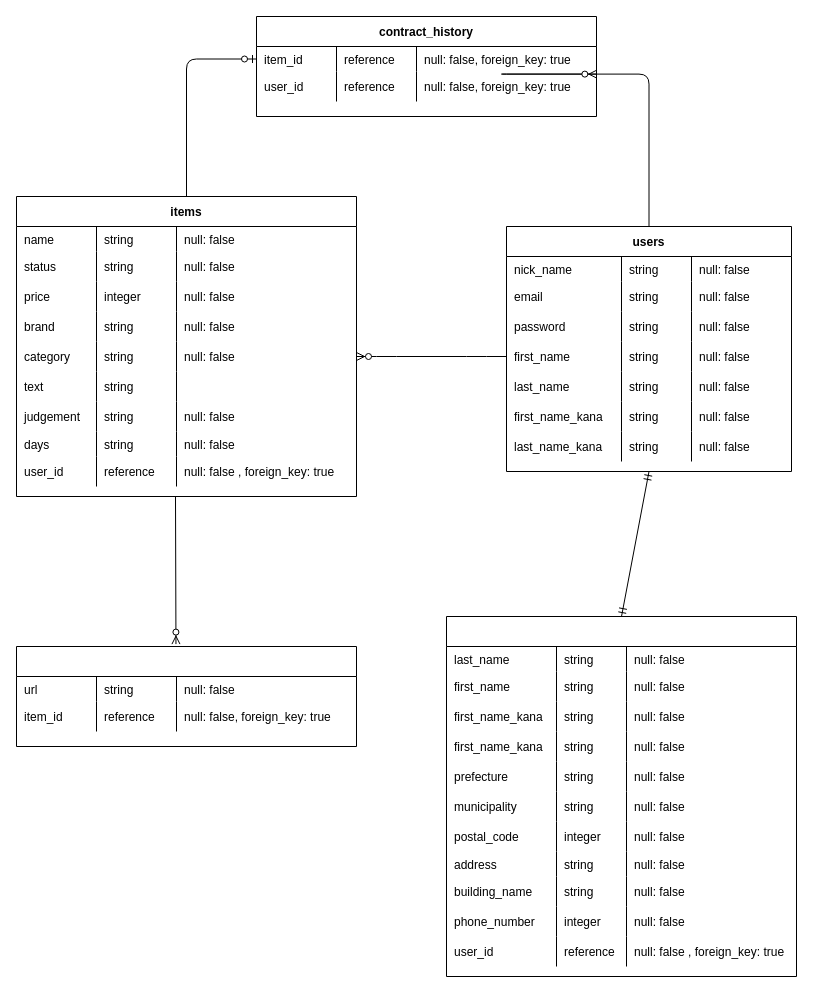
This 813x993 diagram has some shape labels left out. The box of each missing label's shape, as (x1, y1, x2, y2) in pixels:
destinations: (446, 616, 796, 976)
images: (16, 646, 356, 746)
